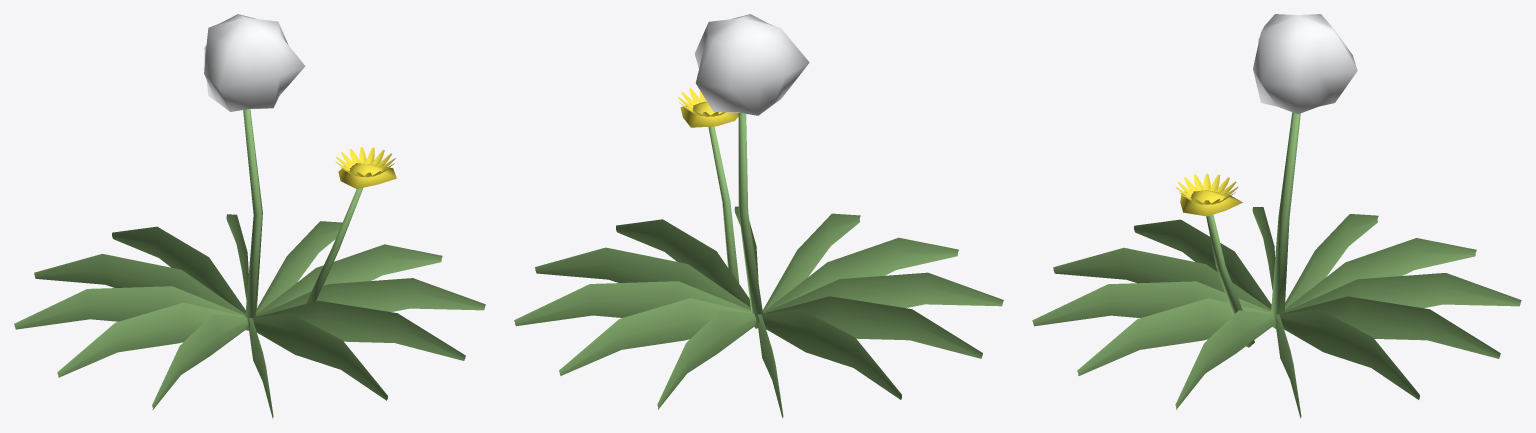
The model's file is flower_dandelion.glb.
The picture shows the model from 3 angles, left to right: view 1: azimuth 30°, elevation 25°; view 2: azimuth 150°, elevation 25°; view 3: azimuth 270°, elevation 25°; orthographic projection. The views are drawn at different scales.
Parts seen in each view (by area): view 1: Flora_Dandelion; view 2: Flora_Dandelion; view 3: Flora_Dandelion.
Part boxes in pixels (box(x1,y1,x2,y2)): Flora_Dandelion: box(14, 14, 485, 418); Flora_Dandelion: box(514, 14, 1003, 418); Flora_Dandelion: box(1032, 14, 1521, 418).
Bounding box in the file's own units: 0.6993 × 0.4975 × 0.6993.
